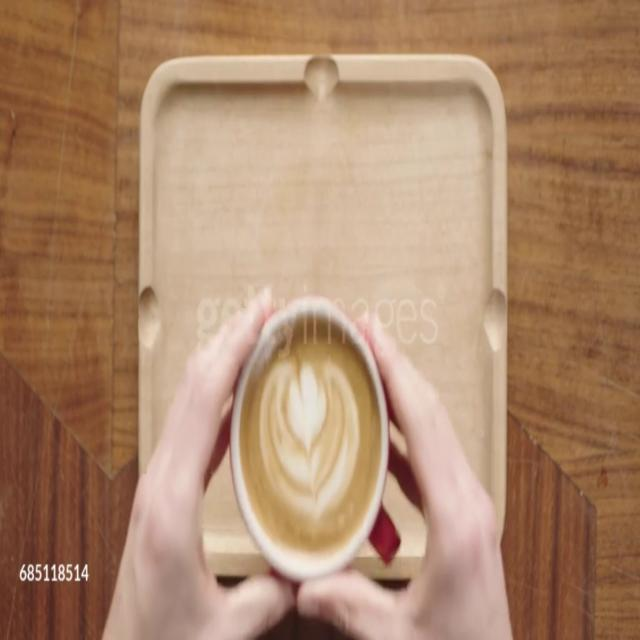cup: (231, 296, 401, 578)
tray: (139, 54, 507, 576)
